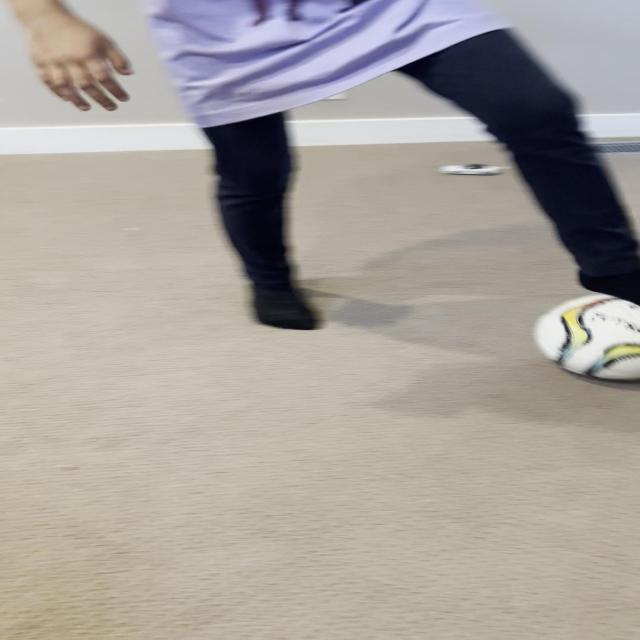Soccer Ball: (531, 292, 640, 381)
